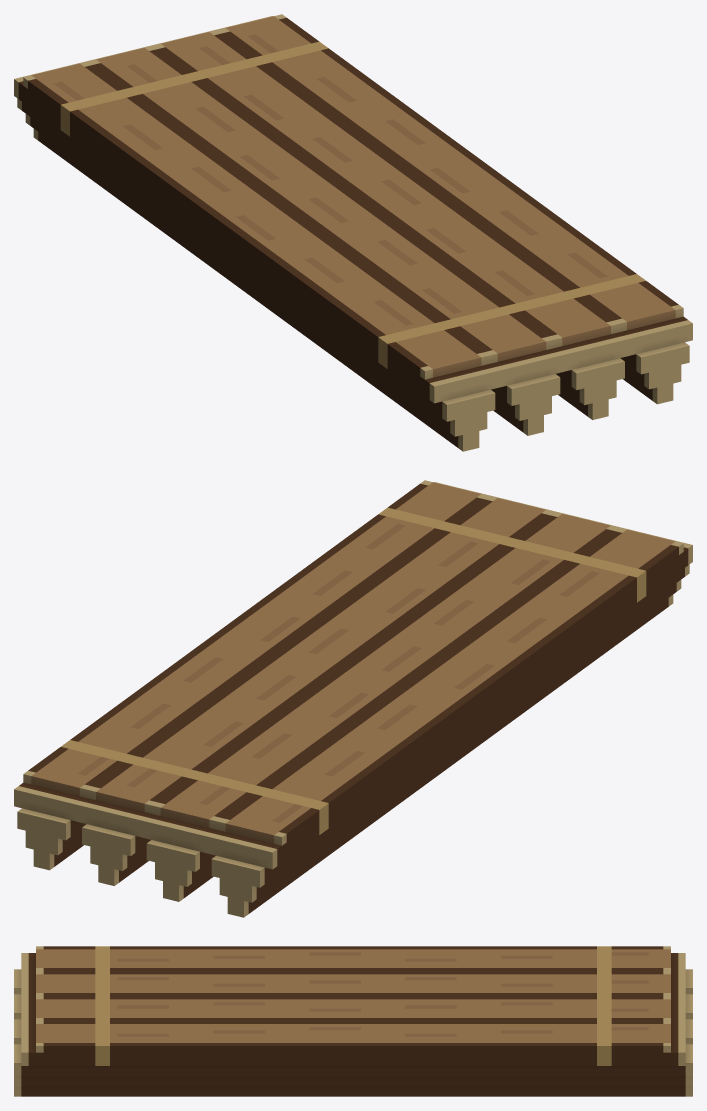
File: log_bridge_4.glb
The picture shows the model from 3 angles, top to bottom: view 1: azimuth 30°, elevation 25°; view 2: azimuth 150°, elevation 25°; view 3: azimuth 270°, elevation 25°; orthographic projection. The views are drawn at different scales.
Parts seen in each view (by area): view 1: VoxelVisual; view 2: VoxelVisual; view 3: VoxelVisual.
Boxes of the visible parts, left/top/right/bottom form: VoxelVisual: left=14, top=14, right=692, bottom=451; VoxelVisual: left=14, top=480, right=692, bottom=917; VoxelVisual: left=14, top=946, right=692, bottom=1096.
Size of what is drawn, in the model's own units: 2 by 0.5625 by 5.75.
